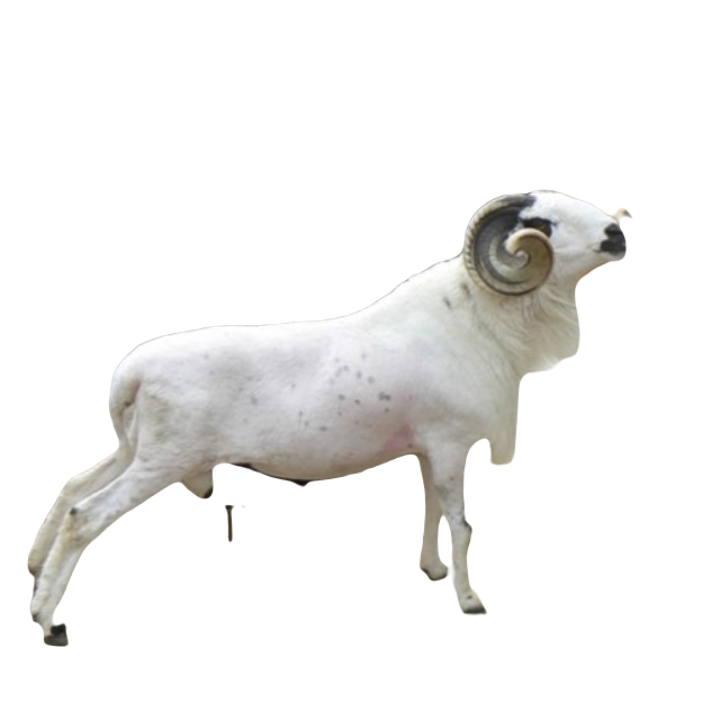Sheep: (25, 180, 639, 648)
